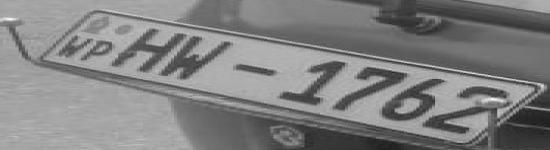-: (229, 60, 281, 77)
1: (281, 60, 348, 104)
2: (421, 84, 510, 136)
6: (377, 78, 448, 121)
7: (333, 66, 406, 112)
H: (111, 26, 172, 72)
P: (79, 41, 114, 62)
W: (158, 36, 232, 80), (43, 34, 92, 56)
